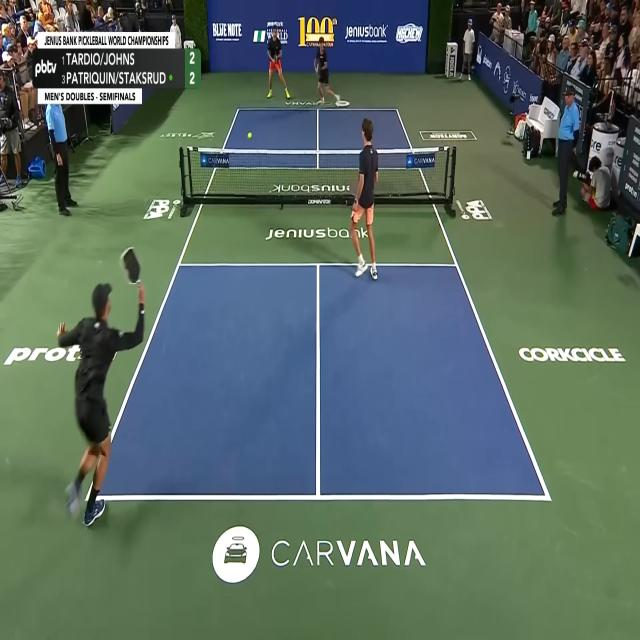ball: (247, 132, 252, 140)
